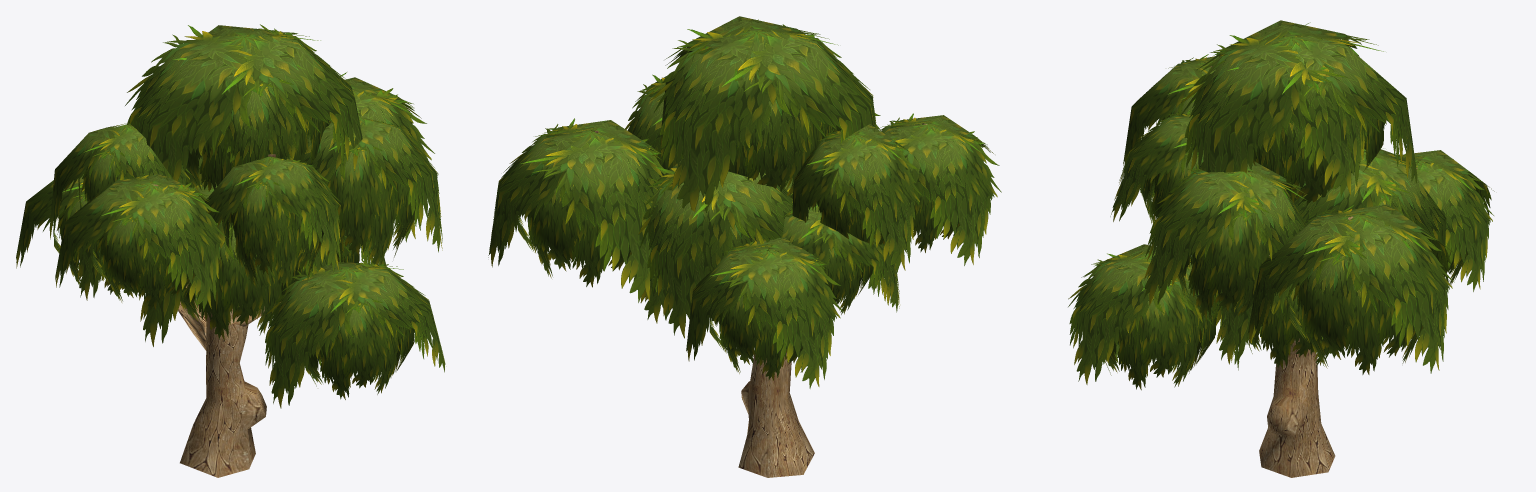
The model's file is FFP Terrain_tree_02.fbx.
The picture shows the model from 3 angles, left to right: view 1: azimuth 30°, elevation 25°; view 2: azimuth 150°, elevation 25°; view 3: azimuth 270°, elevation 25°; orthographic projection. The views are drawn at different scales.
Visible parts, largest first — view 1: polySurface325; view 2: polySurface325; view 3: polySurface325.
Boxes of the visible parts, <box> form: polySurface325: <box>16,24,445,477</box>; polySurface325: <box>488,16,1001,477</box>; polySurface325: <box>1068,20,1494,477</box>.
Bounding box in the file's own units: 6220 × 5583 × 5560.
